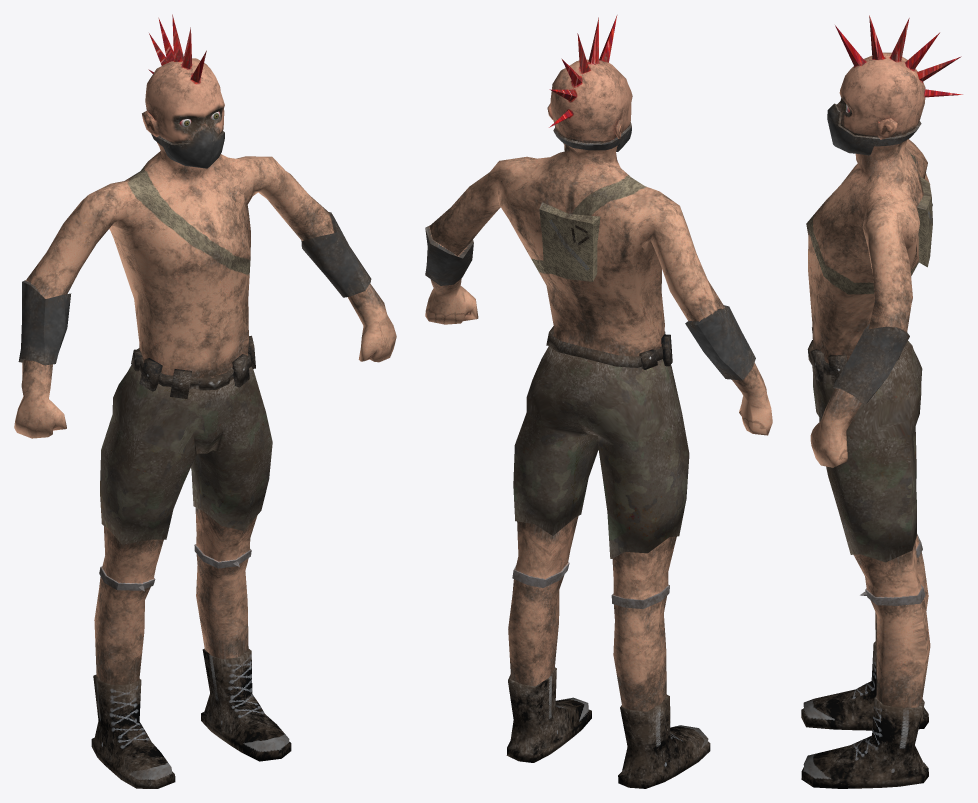
File: Anim_idle_npc2.0023.obj
3 views of the same model, side by side, from view 1: azimuth 30°, elevation 25°; view 2: azimuth 150°, elevation 25°; view 3: azimuth 270°, elevation 25° (orthographic). The views are drawn at different scales.
Parts seen in each view (by area): view 1: polySurface1; view 2: polySurface1; view 3: polySurface1.
Part boxes in pixels (x1,y1,x2,y2): polySurface1: (14, 14, 396, 788); polySurface1: (425, 15, 772, 788); polySurface1: (801, 15, 962, 788).
Size of the model in its own units: 5.31 by 10.2 by 2.03.
2 materials, 2 textured.
